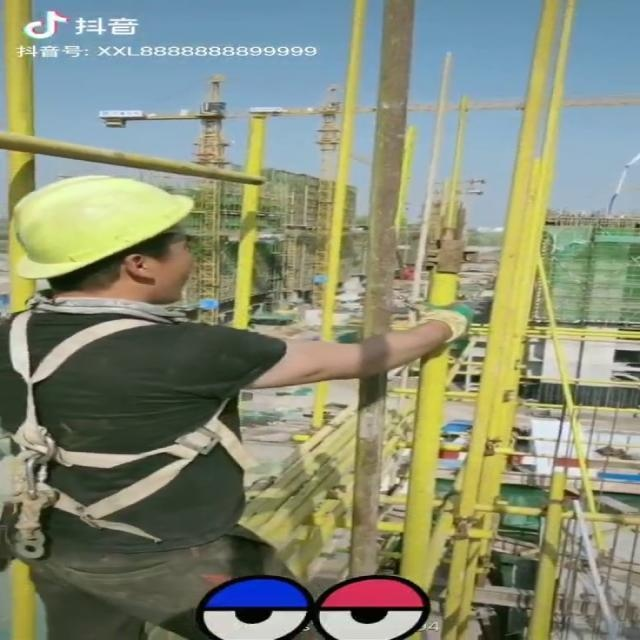Arnes_seguridad: (0, 290, 265, 559)
